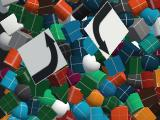Left: (18, 28, 68, 85), (84, 1, 129, 60)
